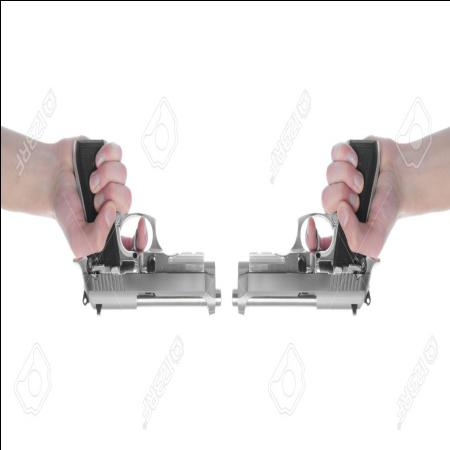Pistol: (233, 120, 377, 325), (67, 137, 221, 311)
